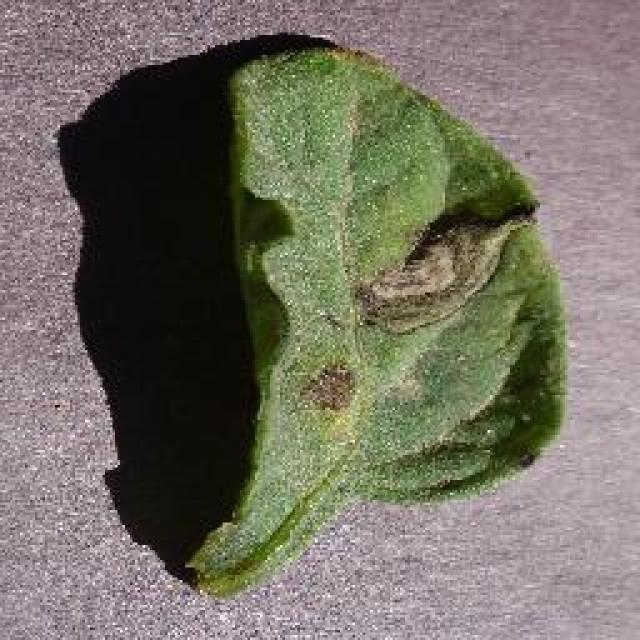Tomato_Early_Blight: (230, 46, 558, 554)
